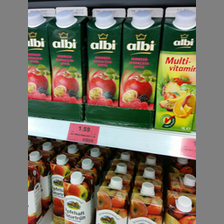juice: (154, 5, 195, 132), (121, 7, 164, 110), (86, 8, 126, 106), (48, 7, 86, 102), (28, 8, 51, 101)
